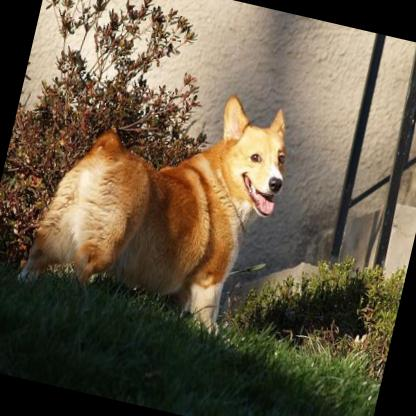Pembroke: (20, 54, 299, 340)
